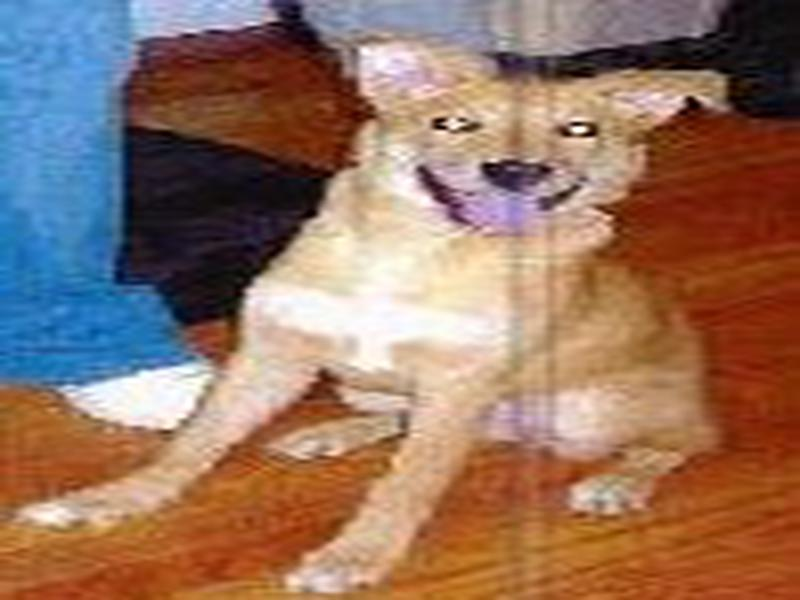dog: (10, 48, 742, 546)
